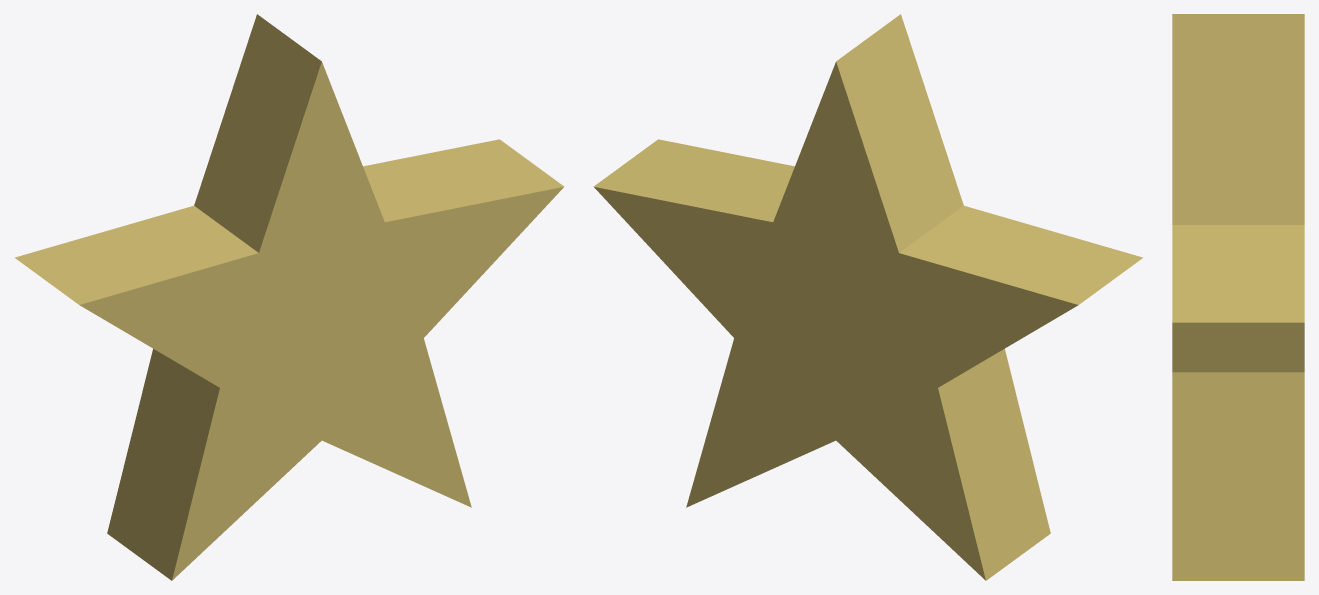
The model's file is star.glb.
3 views of the same model, side by side, from view 1: azimuth 30°, elevation 25°; view 2: azimuth 150°, elevation 25°; view 3: azimuth 270°, elevation 25° (orthographic).
Visible parts, largest first — view 1: geometry_0; view 2: geometry_0; view 3: geometry_0.
Part boxes in pixels (left/top/right/bottom): geometry_0: left=15, top=14, right=564, bottom=580; geometry_0: left=593, top=14, right=1142, bottom=580; geometry_0: left=1172, top=14, right=1304, bottom=580.
Bounding box in the file's own units: 0.62 × 0.5897 × 0.1434.
